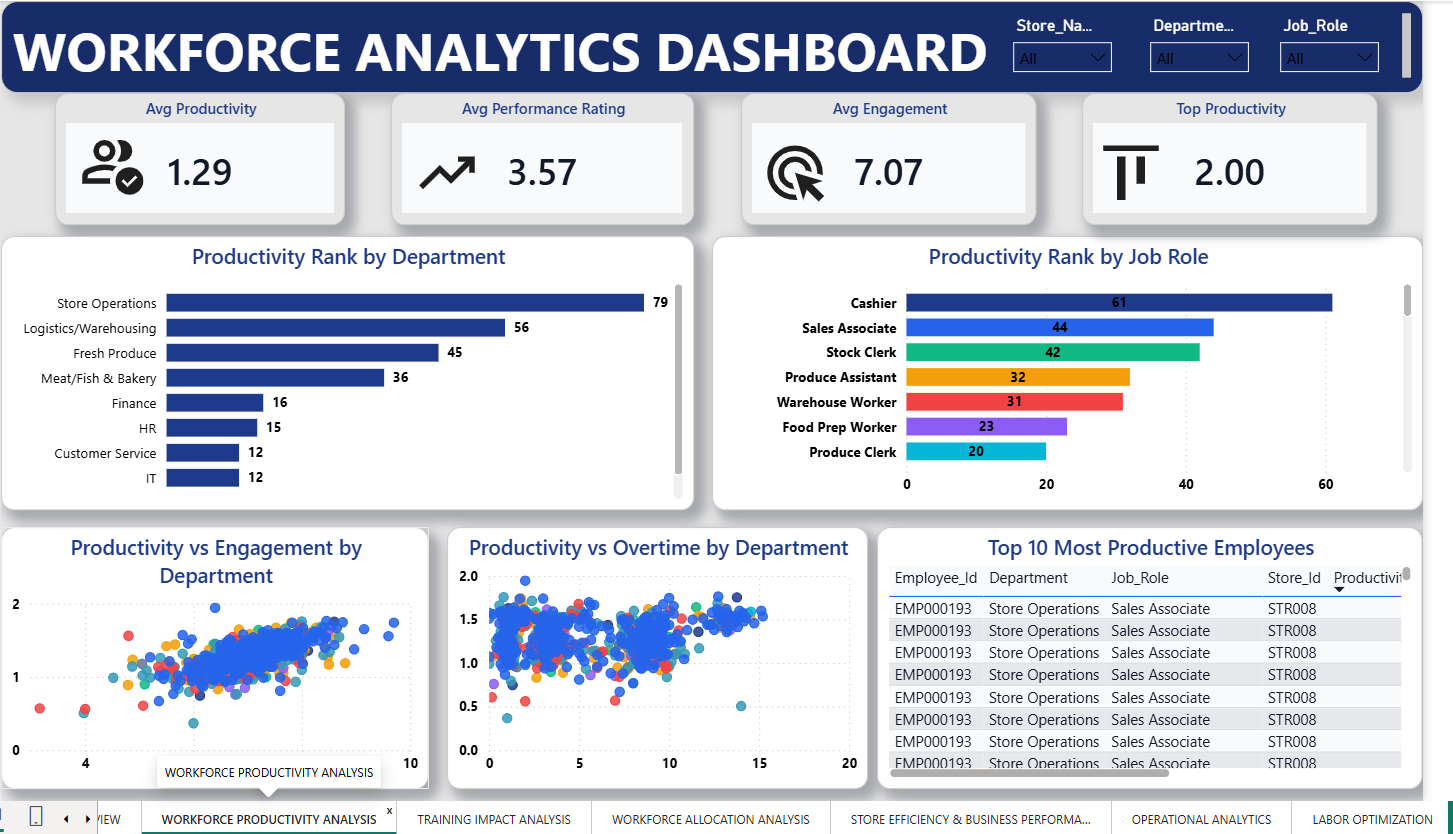

Layout of this report page (visuals, bound fields, positions):
{"tool":"powerbi","page":{"name":"WORKFORCE PRODUCTIVITY ANALYSIS","canvas":[1280,720],"ordinal":1},"visuals":[{"type":"textbox","box":[0,0,1279.8,82.8],"z":0},{"type":"cardVisual","title":"Avg Productivity","fields":{"Data":["Dim_Date.Avg Productivity"]},"box":[48.6,82.8,261,118.8],"z":1000},{"type":"cardVisual","title":"Avg Performance Rating","fields":{"Data":["Dim_Date.Avg Performance Rating"]},"box":[351,82.8,272.7,118.8],"z":2000},{"type":"cardVisual","title":"Avg Engagement","fields":{"Data":["Dim_Date.Avg Engagement"]},"box":[666,82.8,266.4,118.8],"z":3000},{"type":"barChart","fields":{"Category":["Dim_Employee.Department"],"Y":["Dim_Date.Productivity Rank"]},"box":[0,211.5,623.7,246.6],"z":4000},{"type":"barChart","title":"Productivity Rank by Job Role ","fields":{"Category":["Dim_Employee.Job_Role"],"Y":["Dim_Date.Productivity Rank"],"Series":["Dim_Employee.Job_Role"]},"box":[639.9,211.5,639.9,246.6],"z":5000},{"type":"slicer","fields":{"Values":["Dim_Store.Store_Name"]},"box":[900.9,9,108.9,63.9],"z":6000},{"type":"slicer","fields":{"Values":["Dim_Employee.Job_Role"]},"box":[1141.2,9,108.9,63.9],"z":7000},{"type":"slicer","fields":{"Values":["Dim_Employee.Department"]},"box":[1024.2,9,108.9,63.9],"z":8000},{"type":"cardVisual","title":"Top Productivity","fields":{"Data":["Dim_Date.Top Productivity"]},"box":[972.9,82.8,266.4,118.8],"z":9000},{"type":"image","box":[62.1,125.1,72,59.4],"z":10000},{"type":"image","box":[365.4,125.1,72,59.4],"z":11000},{"type":"image","box":[678.6,125.1,72,59.4],"z":12000},{"type":"image","box":[981,125.1,72,59.4],"z":13000},{"type":"scatterChart","title":"Productivity vs Engagement by Department","fields":{"Category":["Dim_Employee.Employee_Id"],"Series":["Dim_Employee.Department"],"X":["Avg(Fact_Workforce.Engagement_Index)"],"Y":["Avg(Fact_Workforce.Productivity_Index)"]},"box":[0,473.4,385.2,235.8],"z":14000},{"type":"scatterChart","title":"Productivity vs Overtime  by Department","fields":{"Category":["Dim_Employee.Employee_Id"],"Series":["Dim_Employee.Department"],"Y":["Avg(Fact_Workforce.Productivity_Index)"],"X":["Avg(Fact_Workforce.Overtime_Hours)"]},"box":[401.4,473.4,378.9,235.8],"z":15000},{"type":"tableEx","title":"Top 10 Most Productive Employees","fields":{"Values":["Dim_Employee.Employee_Id","Dim_Employee.Department","Dim_Employee.Job_Role","Dim_Store.Store_Id","Fact_Workforce.Productivity_Index","Fact_Workforce.Engagement_Index","Fact_Workforce.Training_Hours","Fact_Workforce.Overtime_Hours"]},"box":[788.4,473.4,491.4,235.8],"z":16000}]}

Visuals, with their boxes on the page's 1280x720 design canvas (x1, y1, x2, y2). These are canvas units, not pixel positions in the 1453x834 screenshot, which may show the page scaled, cropped or inside an application window:
textbox: 0, 0, 1280, 83
"Avg Productivity" cardVisual: 49, 83, 310, 202
"Avg Performance Rating" cardVisual: 351, 83, 624, 202
"Avg Engagement" cardVisual: 666, 83, 932, 202
barChart - Dim_Employee.Department x Dim_Date.Productivity Rank: 0, 212, 624, 458
"Productivity Rank by Job Role " barChart: 640, 212, 1280, 458
slicer - Dim_Store.Store_Name: 901, 9, 1010, 73
slicer - Dim_Employee.Job_Role: 1141, 9, 1250, 73
slicer - Dim_Employee.Department: 1024, 9, 1133, 73
"Top Productivity" cardVisual: 973, 83, 1239, 202
image: 62, 125, 134, 184
image: 365, 125, 437, 184
image: 679, 125, 751, 184
image: 981, 125, 1053, 184
"Productivity vs Engagement by Department" scatterChart: 0, 473, 385, 709
"Productivity vs Overtime  by Department" scatterChart: 401, 473, 780, 709
"Top 10 Most Productive Employees" tableEx: 788, 473, 1280, 709
